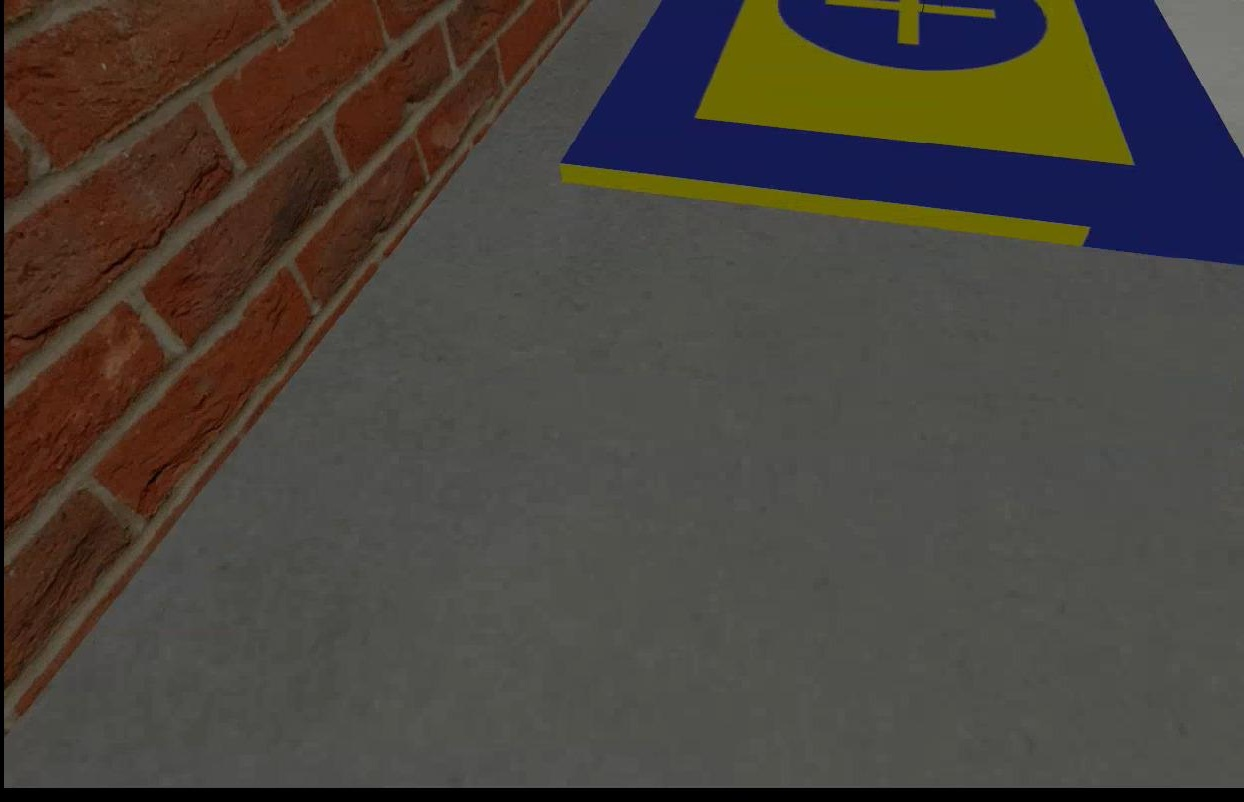large_base: (551, 1, 1242, 270)
